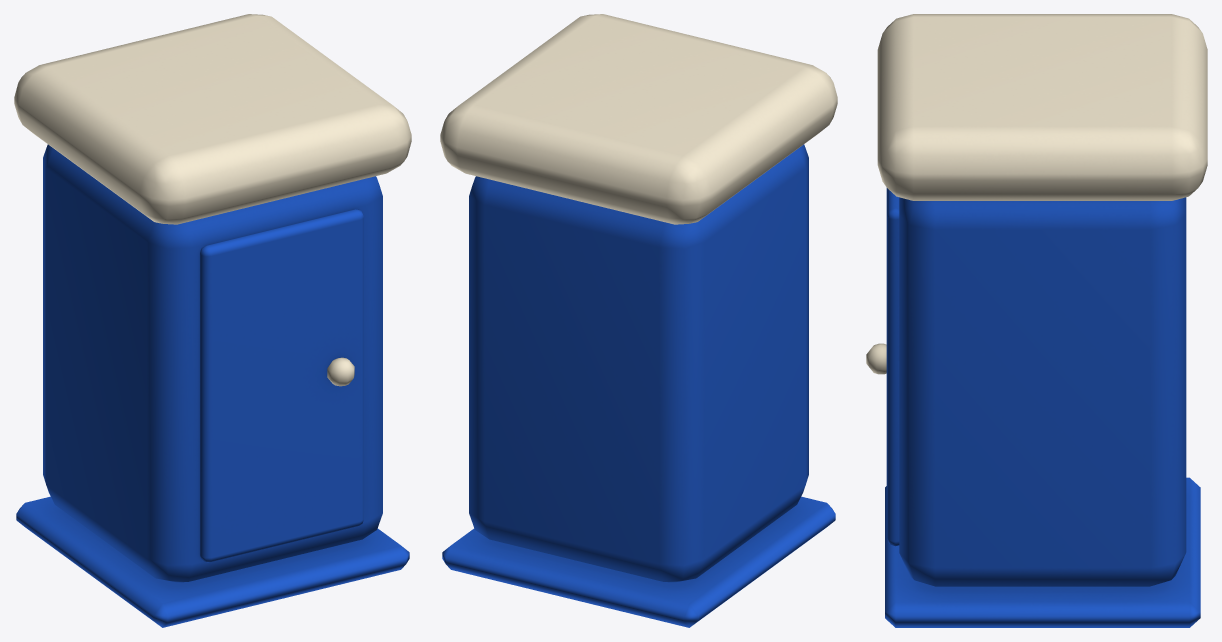
Rendered from site-toilet.fbx.
3 views of the same model, side by side, from view 1: azimuth 30°, elevation 25°; view 2: azimuth 150°, elevation 25°; view 3: azimuth 270°, elevation 25° (orthographic). The views are drawn at different scales.
Parts seen in each view (by area): view 1: site-toilet; view 2: site-toilet; view 3: site-toilet.
Part boxes in pixels (<box>): site-toilet: <box>14,14,411,627</box>; site-toilet: <box>440,14,837,627</box>; site-toilet: <box>866,14,1207,627</box>.
Size of the model in its own units: 445 by 735 by 460.
Materials: 1 (1 with a texture image).
